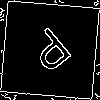P: (25, 25, 80, 82)
